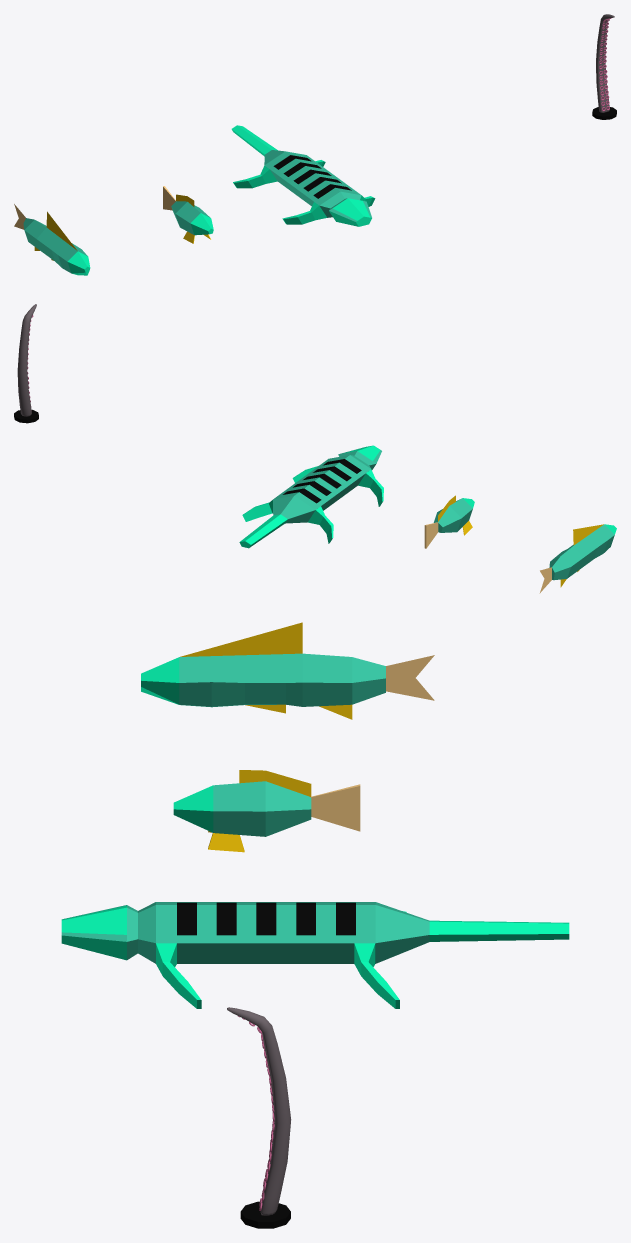
Rendered from Monsters.fbx.
3 views of the same model, one above another, from view 1: azimuth 30°, elevation 25°; view 2: azimuth 150°, elevation 25°; view 3: azimuth 270°, elevation 25° (orthographic). The views are drawn at different scales.
Parts seen in each view (by area): view 1: Fish-2, Fish-1, Fish-3, body; view 2: Fish-2, Fish-1, Fish-3, body; view 3: Fish-2, Fish-1, Fish-3, body, ground.
Boxes of the visible parts, bbox=[...] form: Fish-2: bbox=[231, 125, 375, 226]; Fish-1: bbox=[14, 204, 90, 275]; Fish-3: bbox=[163, 186, 213, 243]; body: bbox=[596, 14, 614, 112]; Fish-2: bbox=[239, 445, 383, 548]; Fish-1: bbox=[539, 524, 616, 593]; Fish-3: bbox=[424, 495, 474, 548]; body: bbox=[17, 304, 36, 416]; Fish-2: bbox=[61, 902, 569, 1008]; Fish-1: bbox=[141, 622, 434, 719]; Fish-3: bbox=[173, 770, 360, 852]; body: bbox=[227, 1007, 291, 1215]; ground: bbox=[240, 1201, 290, 1228].
Size of the model in its own units: 5212 by 1080 by 2008.
